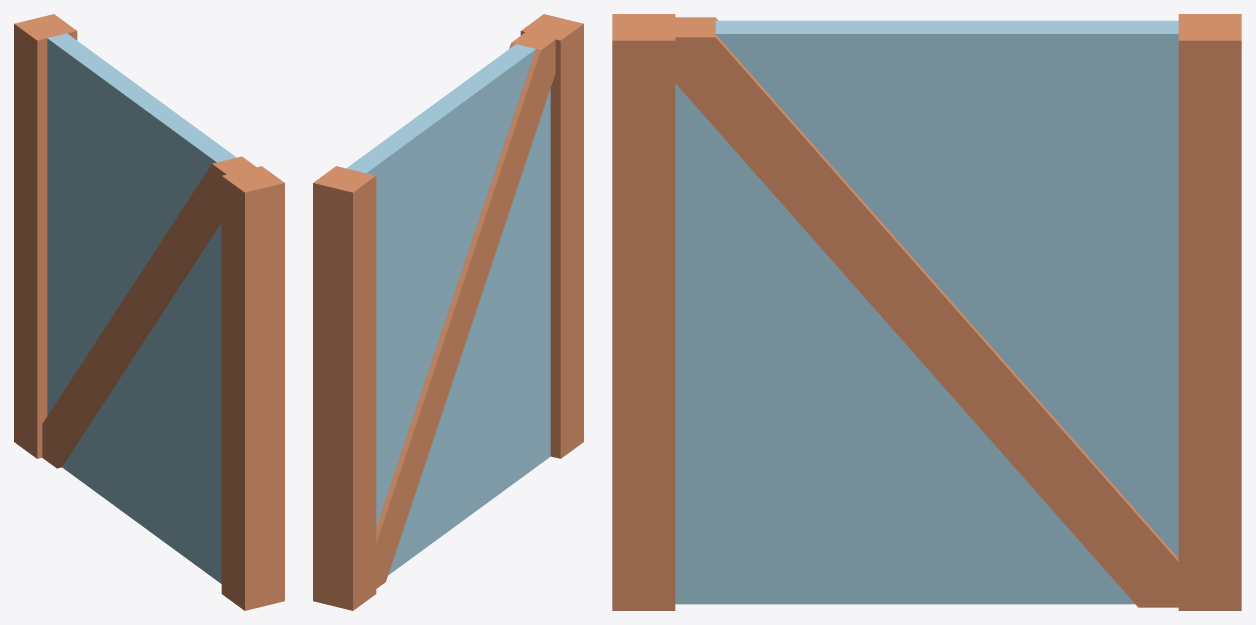
File: wallDetailDiagonal.obj
The picture shows the model from 3 angles, left to right: view 1: azimuth 30°, elevation 25°; view 2: azimuth 150°, elevation 25°; view 3: azimuth 270°, elevation 25°; orthographic projection. The views are drawn at different scales.
Visible parts, largest first — view 1: wallDetailDiagonal; view 2: wallDetailDiagonal; view 3: wallDetailDiagonal.
Part boxes in pixels (x1=…): wallDetailDiagonal: x1=14, y1=14, x2=284, y2=610; wallDetailDiagonal: x1=313, y1=14, x2=583, y2=610; wallDetailDiagonal: x1=612, y1=14, x2=1241, y2=610.
Bounding box in the file's own units: 0.1 × 1 × 1.
